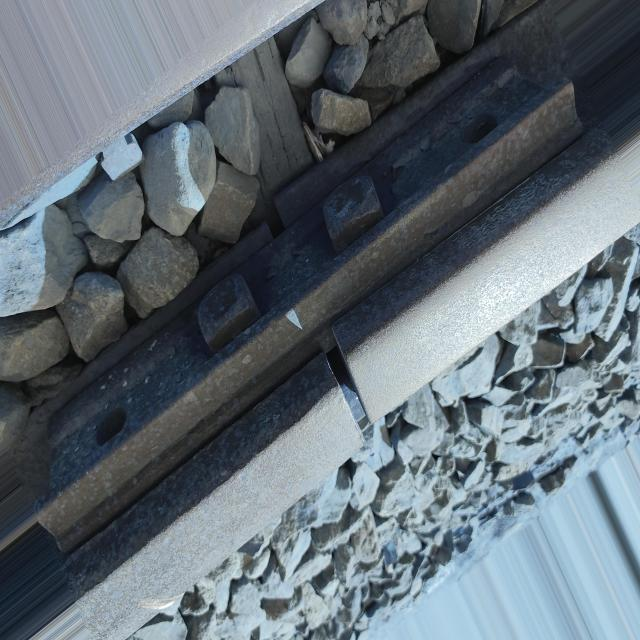Defective Joint: (46, 30, 596, 534)
